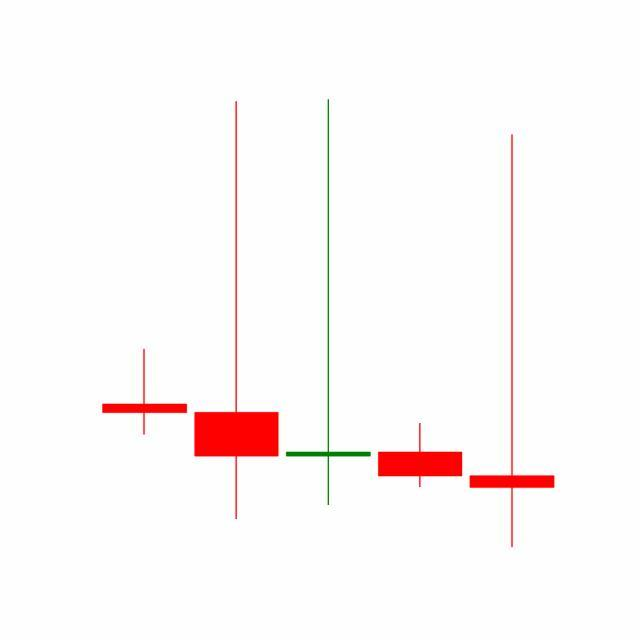Spinning Top: (466, 130, 559, 553)
